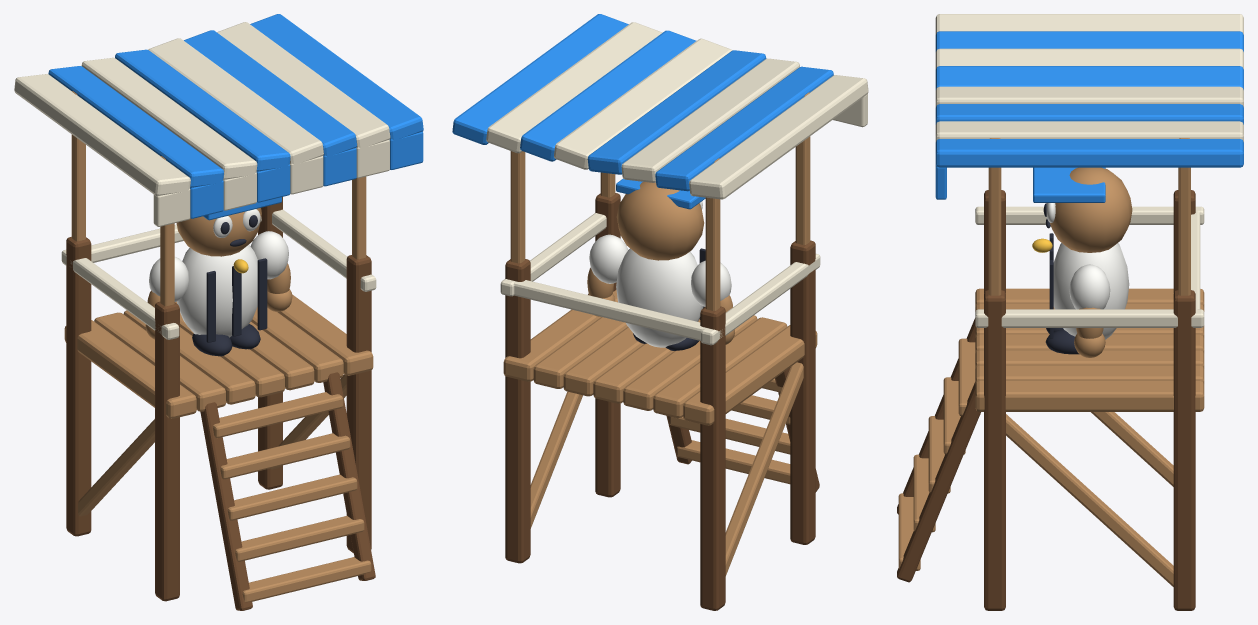
Rendered from referee-stand.glb.
The picture shows the model from 3 angles, left to right: view 1: azimuth 30°, elevation 25°; view 2: azimuth 150°, elevation 25°; view 3: azimuth 270°, elevation 25°; orthographic projection. The views are drawn at different scales.
Visible parts, largest first — view 1: Timber upright.005, Sleeve.003, Hand.002; view 2: Timber upright.005, Sleeve.003, Hand.002; view 3: Timber upright.005, Sleeve.003.
Part boxes in pixels (x1,y1,x2,y2): Timber upright.005: [14, 14, 423, 610]; Sleeve.003: [250, 231, 292, 311]; Hand.002: [145, 257, 188, 339]; Timber upright.005: [452, 14, 868, 610]; Sleeve.003: [587, 234, 628, 316]; Hand.002: [691, 260, 734, 344]; Timber upright.005: [897, 14, 1243, 610]; Sleeve.003: [1069, 264, 1110, 357].
Bounding box in the file's own units: 2.1 × 3.32 × 2.19.
